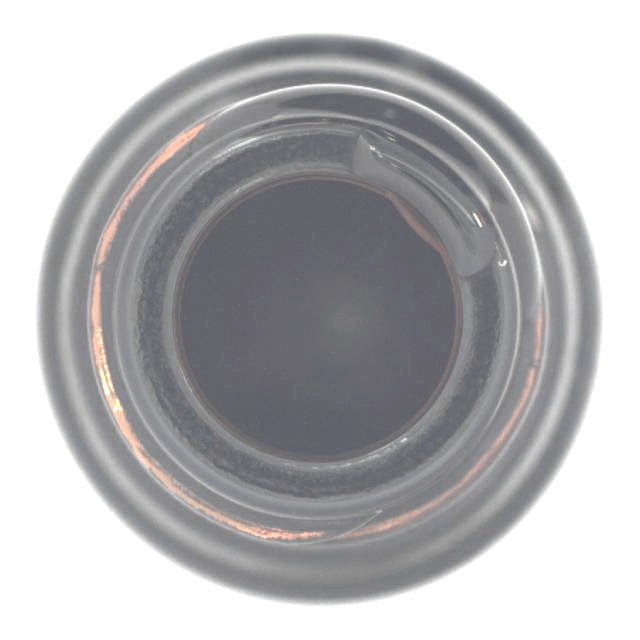bad-contamination: (33, 28, 606, 612)
